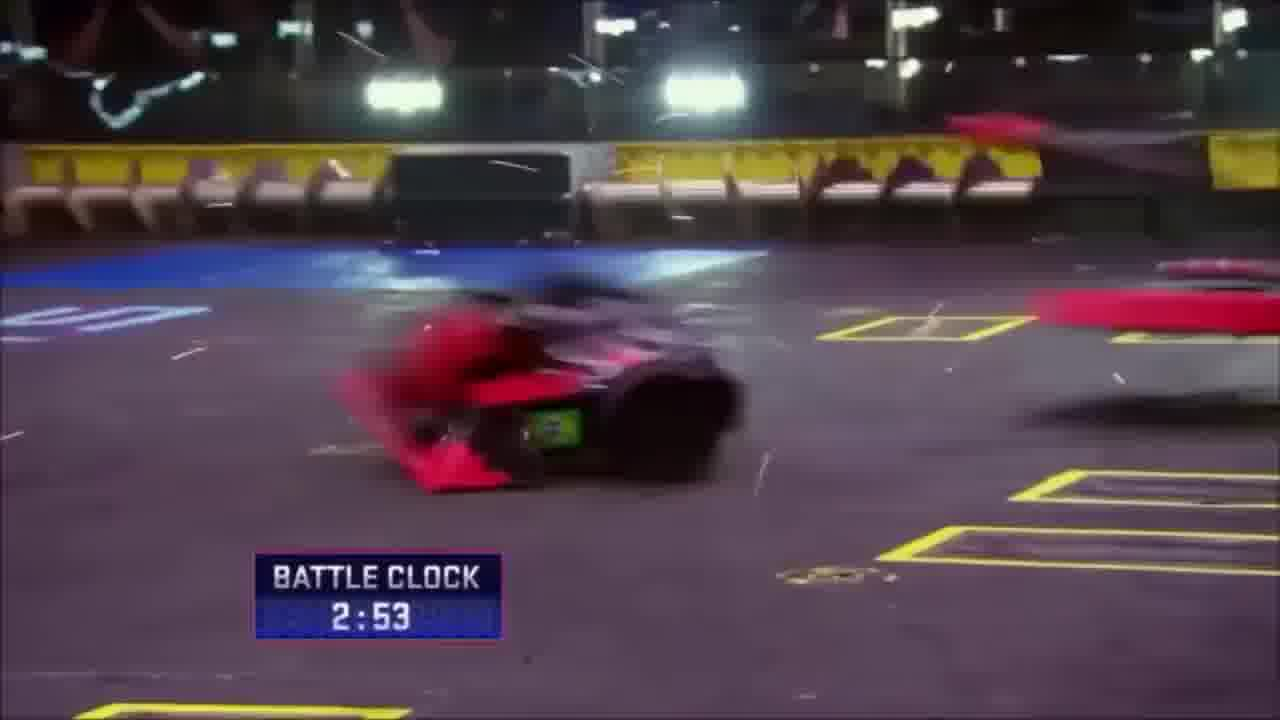combatbot: (325, 271, 749, 495), (1028, 254, 1280, 336)
